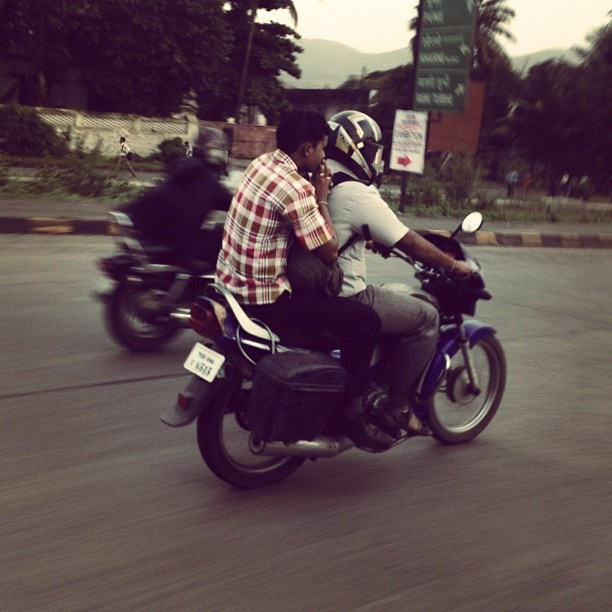non-vehicle: (161, 212, 511, 485), (91, 211, 225, 345)
